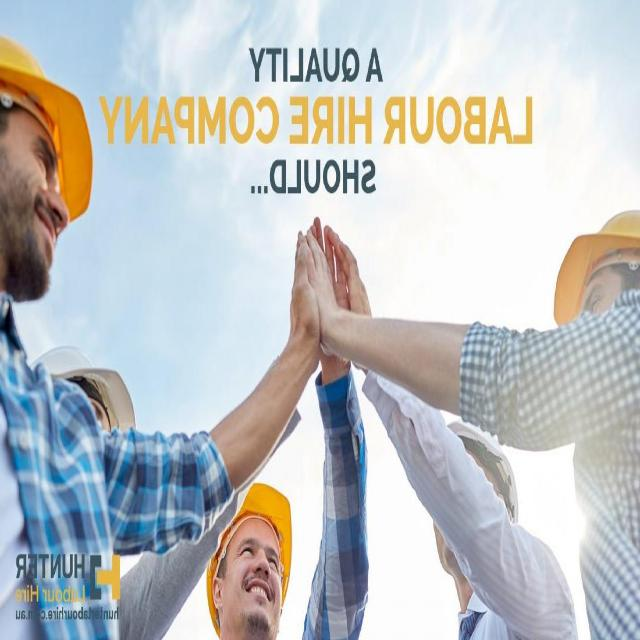Safety-Helmet: (1, 27, 95, 229), (552, 207, 640, 326)
